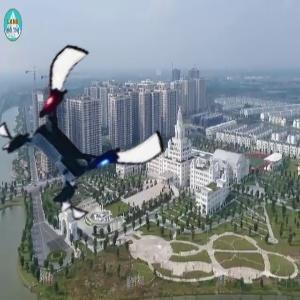drone: (3, 58, 152, 207)
